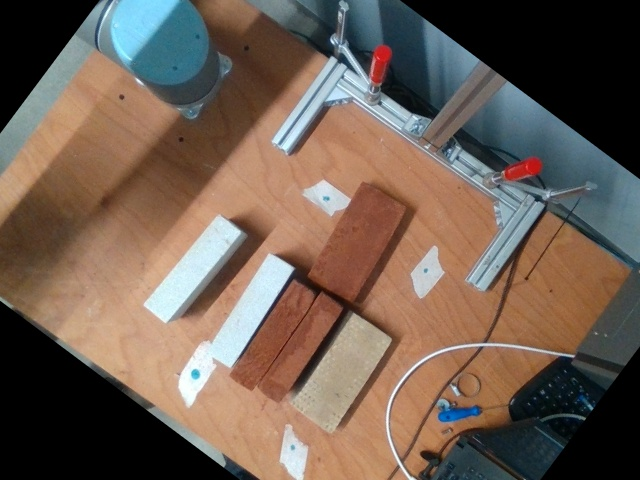brick: (291, 314, 392, 431), (307, 182, 405, 300)
brick-side: (145, 215, 239, 323), (207, 254, 293, 367), (258, 295, 343, 405), (231, 282, 316, 392)
